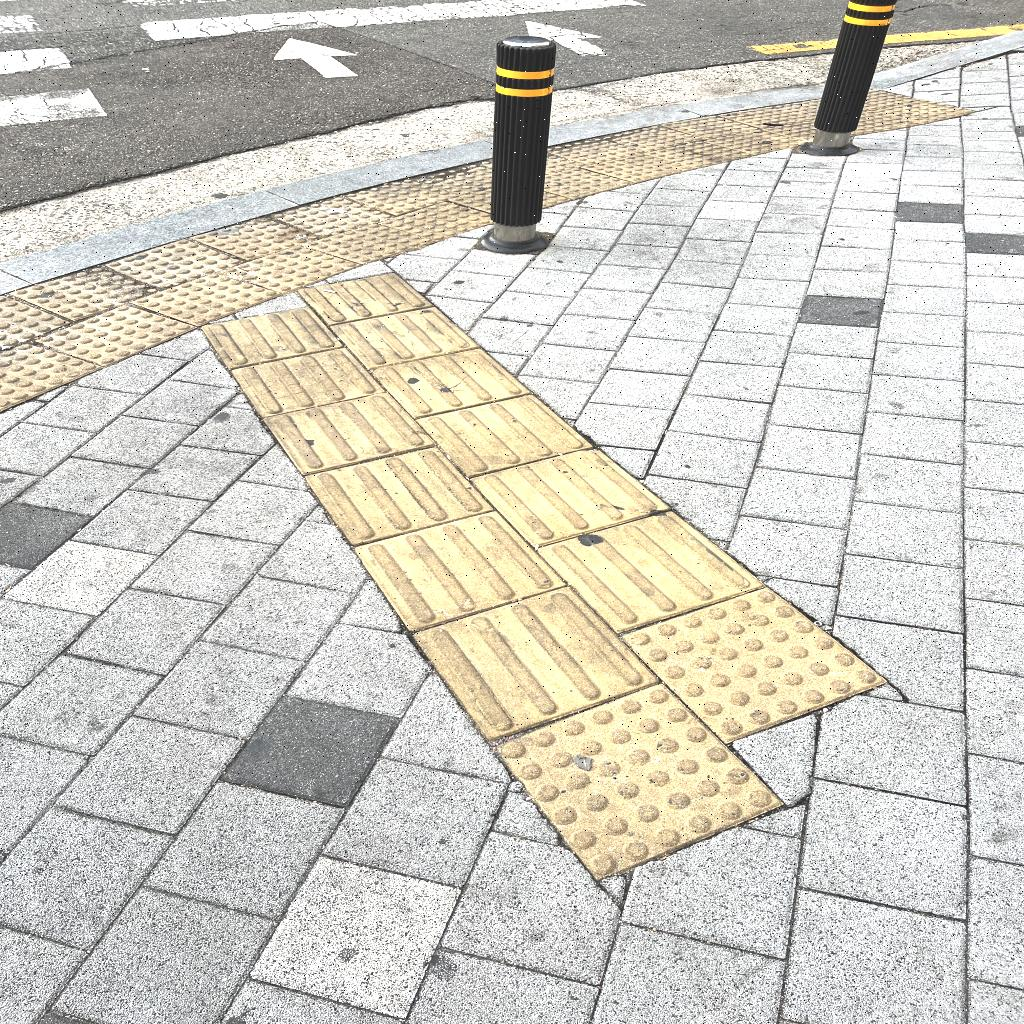Straight block normal: (414, 564, 655, 750), (417, 381, 593, 484)
